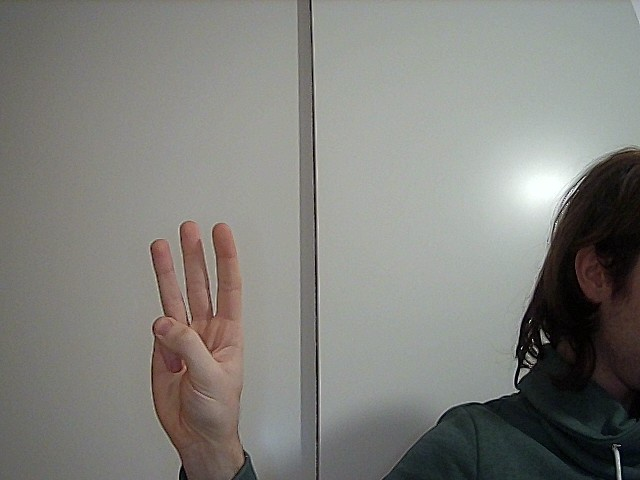w: (131, 209, 260, 458)
